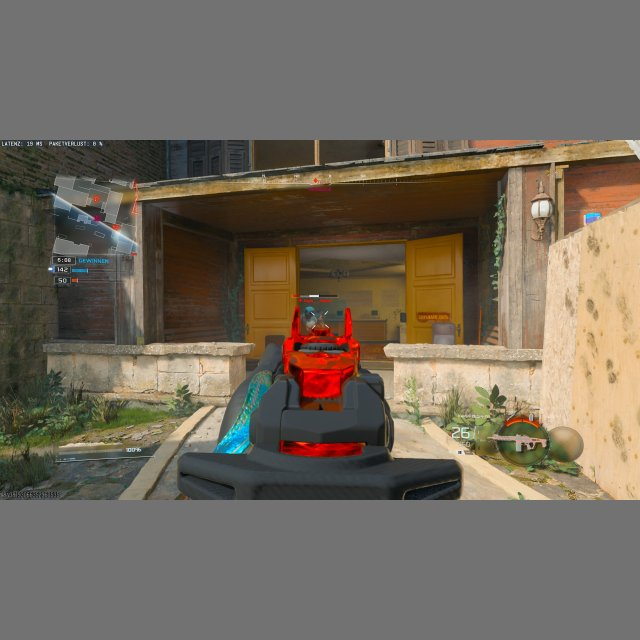player: (307, 309, 335, 337)
